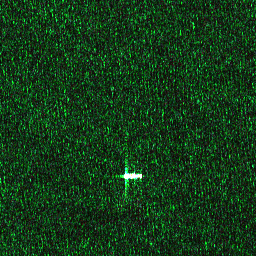ship: (121, 172, 144, 180)
